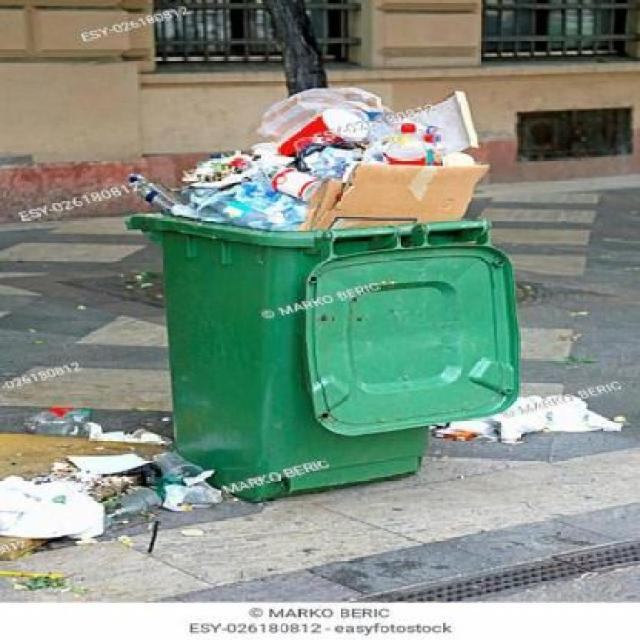garbage: (131, 80, 495, 230), (3, 405, 220, 589), (431, 408, 626, 447)
